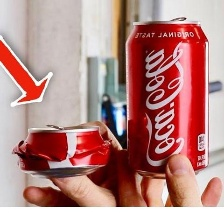can: (124, 12, 214, 179), (8, 121, 115, 181)
